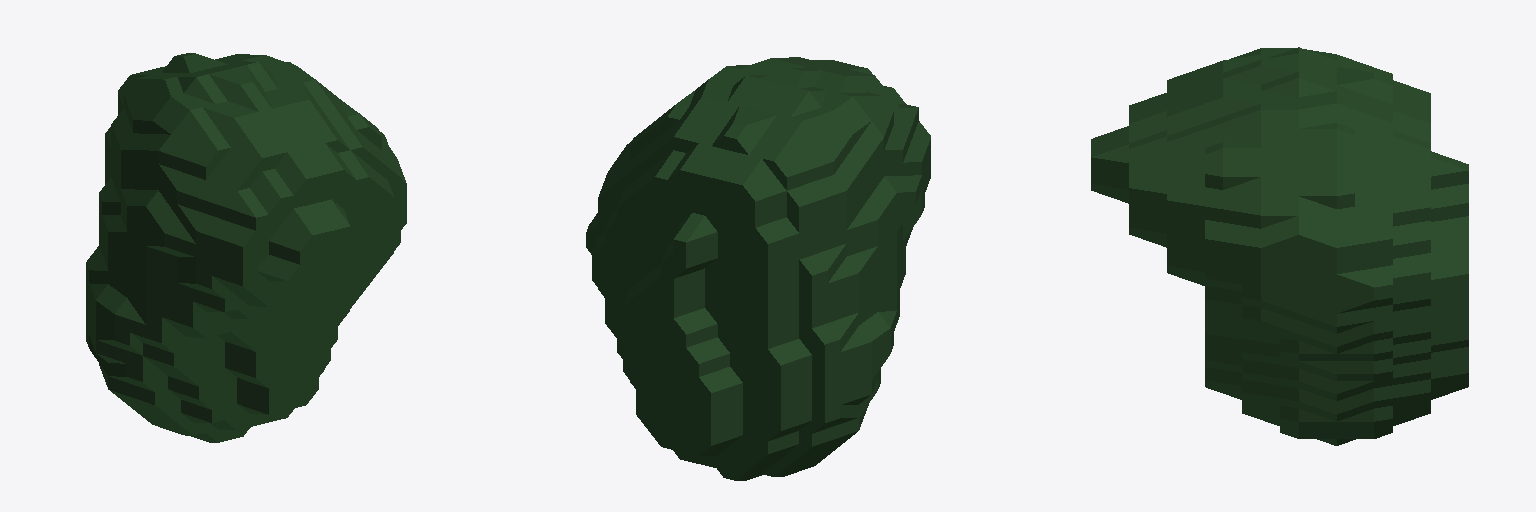
The model's file is Tumor.obj.
The picture shows the model from 3 angles: view 1: azimuth 30°, elevation 25°; view 2: azimuth 150°, elevation 25°; view 3: azimuth 270°, elevation 25°; orthographic projection.
Parts seen in each view (by area): view 1: grp1; view 2: grp1; view 3: grp1.
Boxes of the visible parts, box(x1,y1,x2,y2) form: grp1: box(86, 53, 406, 442); grp1: box(586, 57, 930, 480); grp1: box(1091, 47, 1468, 445).
Size of the model in its own units: 21 by 28 by 26.